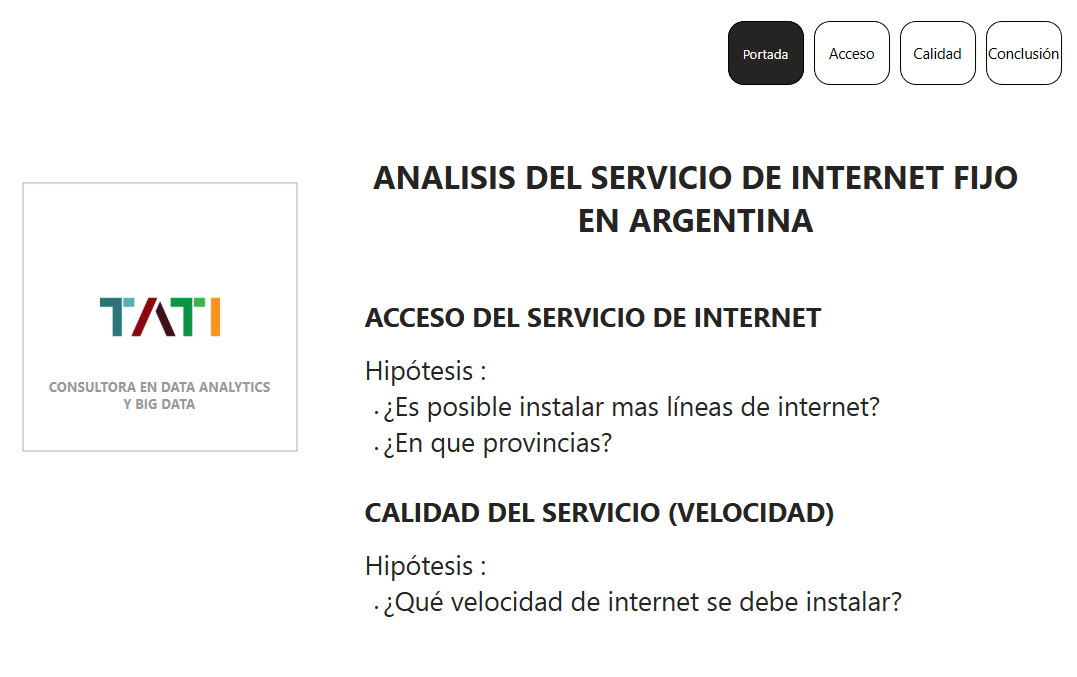

The dashboard page shown, as its layout file describes it:
{"tool":"powerbi","page":{"name":"Portada","canvas":[1100,720],"ordinal":0},"visuals":[{"type":"pageNavigator","box":[752,16,336,64],"z":0},{"type":"image","box":[32,160,304,304],"z":1000},{"type":"textbox","box":[48,368,272,48],"z":2000},{"type":"textbox","box":[384,144,672,96],"z":3000},{"type":"textbox","box":[384,288,688,368],"z":4000}]}

Visuals, with their boxes on the page's 1100x720 design canvas (x1, y1, x2, y2). These are canvas units, not pixel positions in the 1077x677 screenshot, which may show the page scaled, cropped or inside an application window:
pageNavigator: box=[752, 16, 1088, 80]
image: box=[32, 160, 336, 464]
textbox: box=[48, 368, 320, 416]
textbox: box=[384, 144, 1056, 240]
textbox: box=[384, 288, 1072, 656]
